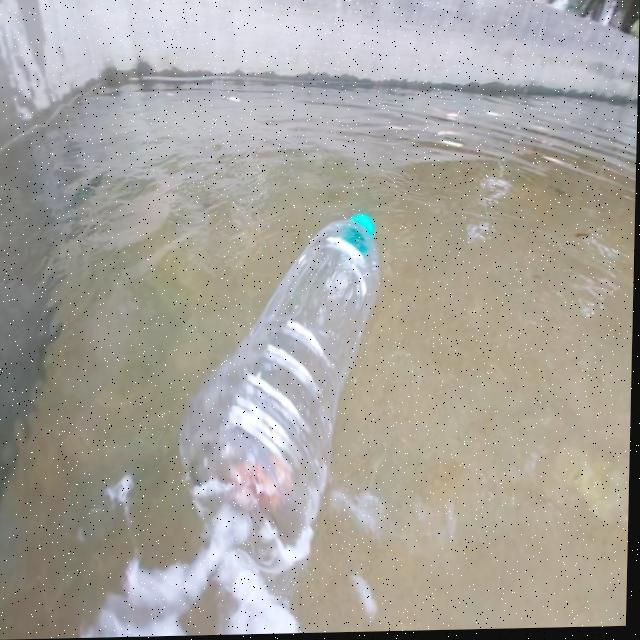waterbottle: (182, 207, 398, 546)
